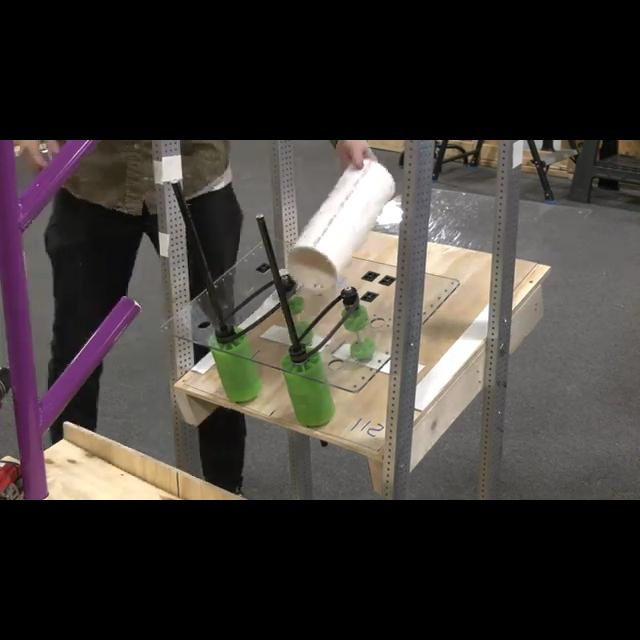CORAL: (286, 156, 398, 292)
